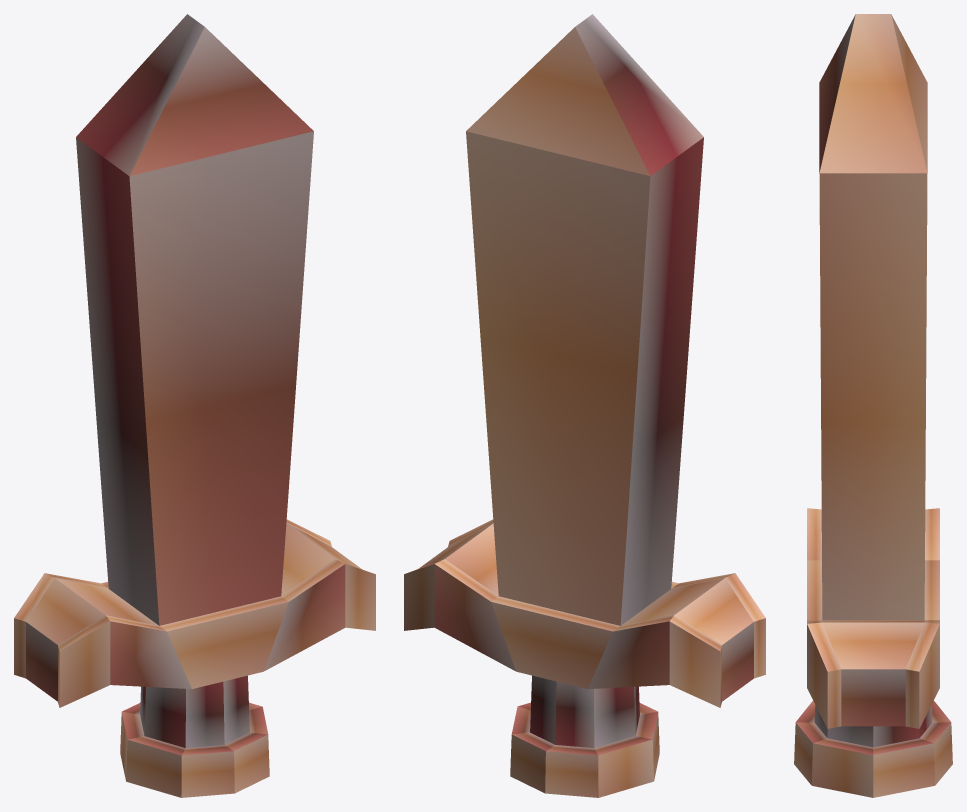
File: sword04.fbx
The picture shows the model from 3 angles, left to right: view 1: azimuth 30°, elevation 25°; view 2: azimuth 150°, elevation 25°; view 3: azimuth 270°, elevation 25°; orthographic projection.
Visible parts, largest first — view 1: sword04; view 2: sword04; view 3: sword04.
Boxes of the visible parts, x1,y1,x2,y2 form: sword04: [14, 14, 375, 797]; sword04: [404, 14, 765, 797]; sword04: [794, 14, 952, 797].
Size of the model in its own units: 57.91 by 130 by 24.97.
